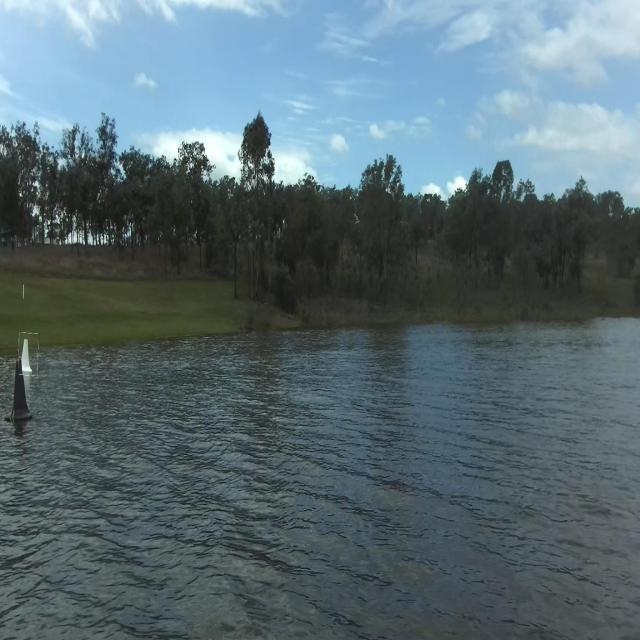Black_Buoy: (13, 374, 32, 419)
White_Buoy: (19, 330, 39, 372)
